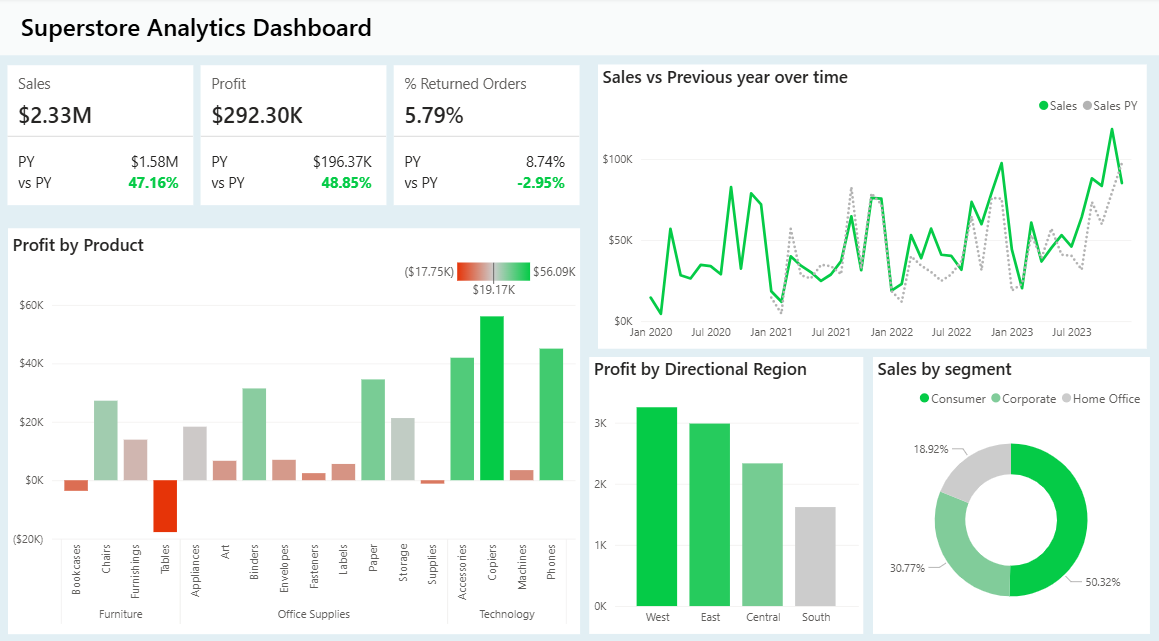

What the dashboard file says about the page in this screenshot:
{"tool":"powerbi","page":{"name":"Page 1","canvas":[1280,720],"ordinal":0},"visuals":[{"type":"cardVisual","fields":{"Data":["Key Measures.Sales","Key Measures.Profit","Key Measures.% Returned Orders"]},"box":[0,64,648.8,174.4],"z":0},{"type":"shape","box":[0,0,1280.2,64],"z":1000},{"type":"lineChart","title":"Sales vs Previous year over time","fields":{"Y":["Key Measures.Sales","Key Measures.Sales PY"],"Category":["Date Table.Start of month"]},"box":[659.3,74.4,602.3,311.6],"z":2000},{"type":"columnChart","title":"Profit by Product","fields":{"Category":["Orders.Category","Orders.Sub-Category"],"Y":["Key Measures.Profit"]},"box":[11.6,253.5,627.9,445.4],"z":3000},{"type":"donutChart","title":"Sales by segment","fields":{"Category":["Orders.Segment"],"Y":["Key Measures.Sales"]},"box":[960.7,394.8,303.6,303.6],"z":4000},{"type":"lineClusteredColumnComboChart","title":"Profit by Directional Region","fields":{"Category":["Orders.Region"],"Y":["CountNonNull(Orders.State/Province)"]},"box":[648.6,394.8,300.8,303.6],"z":5000}]}

Visuals, with their boxes in screenshot pixels (x1, y1, x2, y2), scaled from the page's 1280x720 canvas onto the 1159x641 screenshot:
cardVisual - Key Measures.Sales x Key Measures.Profit: BBox(0, 57, 587, 212)
shape: BBox(0, 0, 1158, 57)
"Sales vs Previous year over time" lineChart: BBox(597, 66, 1142, 344)
"Profit by Product" columnChart: BBox(11, 226, 579, 622)
"Sales by segment" donutChart: BBox(870, 351, 1145, 622)
"Profit by Directional Region" lineClusteredColumnComboChart: BBox(587, 351, 860, 622)
